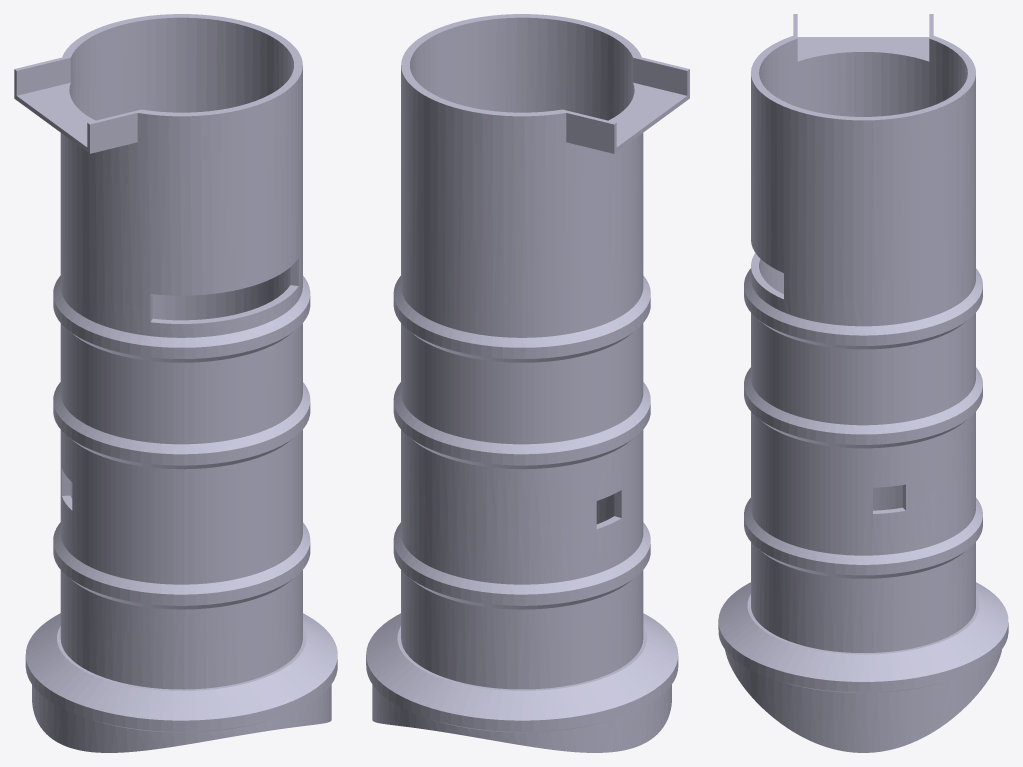
3 views of the same model, side by side, from view 1: azimuth 30°, elevation 25°; view 2: azimuth 150°, elevation 25°; view 3: azimuth 270°, elevation 25° (orthographic). The views are drawn at different scales.
Parts seen in each view (by area): view 1: null; view 2: null; view 3: null.
Boxes of the visible parts, x1,y1,x2,y2 form: null: [14, 14, 337, 752]; null: [366, 14, 689, 752]; null: [718, 14, 1008, 752].
Bounding box in the file's own units: 24.99 × 59.07 × 24.99.
